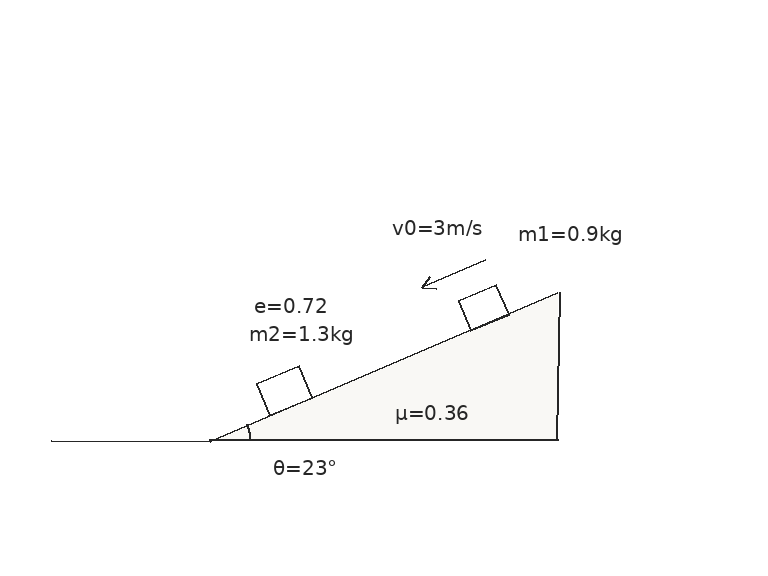block: (254, 364, 314, 417), (456, 283, 510, 332)
ramp: (208, 290, 560, 442)
